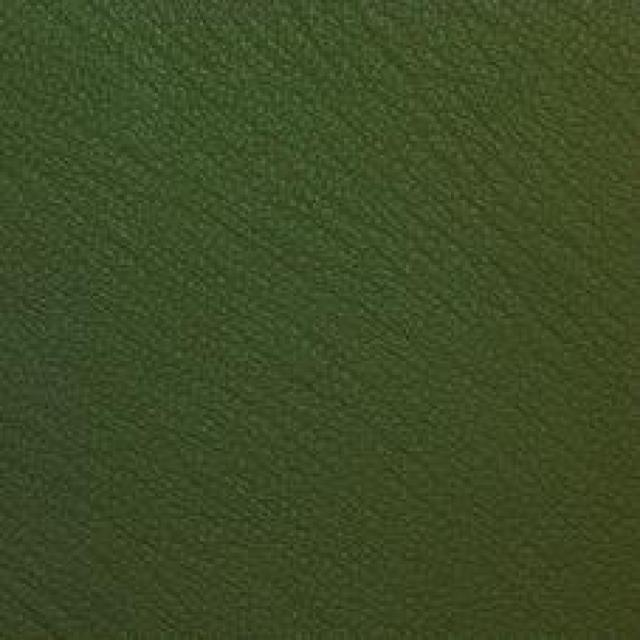Growth Marks: (342, 19, 562, 274)
